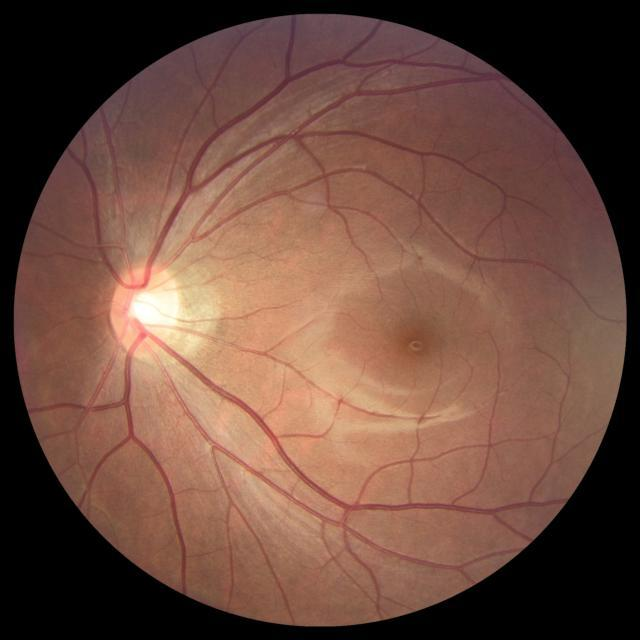OC: (126, 286, 164, 328)
OD: (110, 266, 180, 358)
